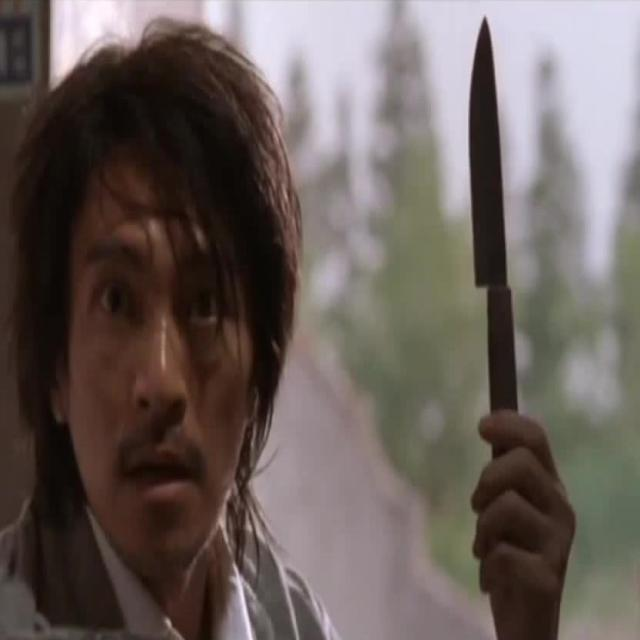knife: (470, 14, 527, 417)
